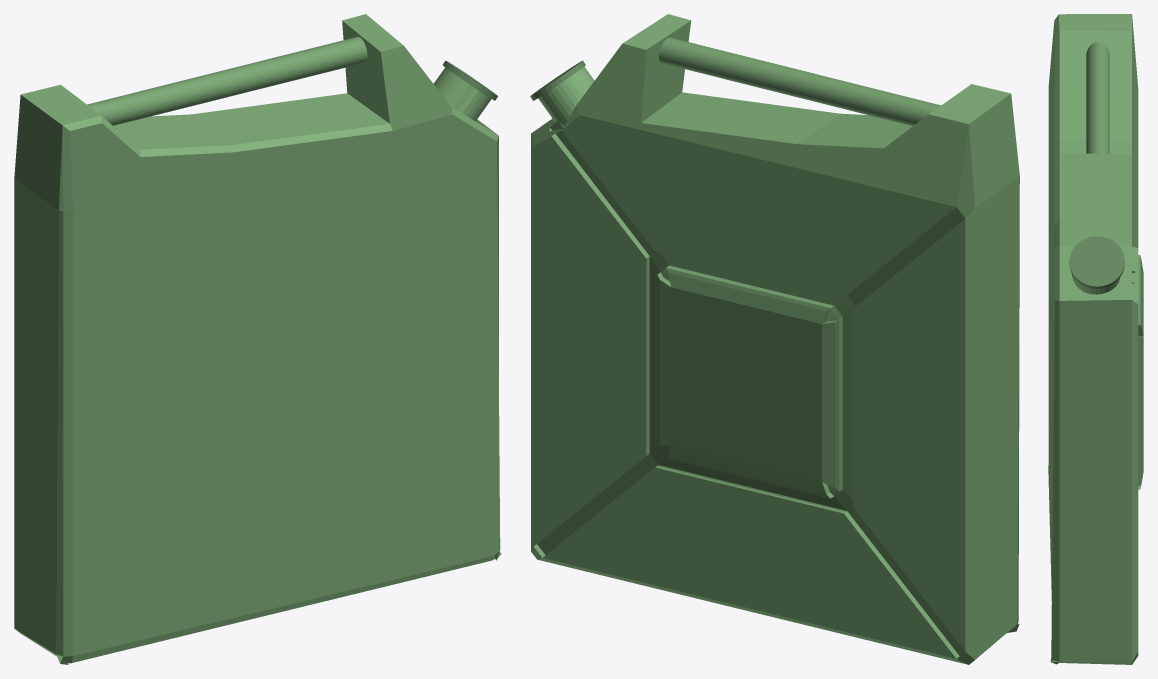
Rendered from petrol.fbx.
3 views of the same model, side by side, from view 1: azimuth 30°, elevation 25°; view 2: azimuth 150°, elevation 25°; view 3: azimuth 270°, elevation 25° (orthographic). The views are drawn at different scales.
Parts seen in each view (by area): view 1: Cube; view 2: Cube; view 3: Cube.
Boxes of the visible parts, bbox=[...] form: Cube: bbox=[14, 14, 501, 664]; Cube: bbox=[530, 14, 1019, 664]; Cube: bbox=[1048, 14, 1143, 664].
Size of the model in its own units: 207 by 233 by 42.76.
